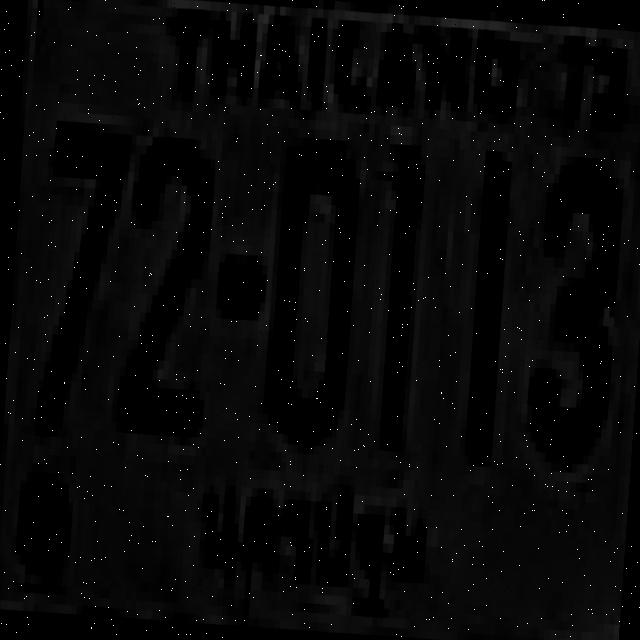0: (261, 136, 357, 438)
1: (459, 154, 507, 452), (376, 144, 418, 442)
2: (116, 125, 212, 428)
3: (524, 154, 620, 456)
7: (30, 120, 126, 430), (34, 120, 126, 375)
NakhonPathom: (182, 463, 445, 630)
